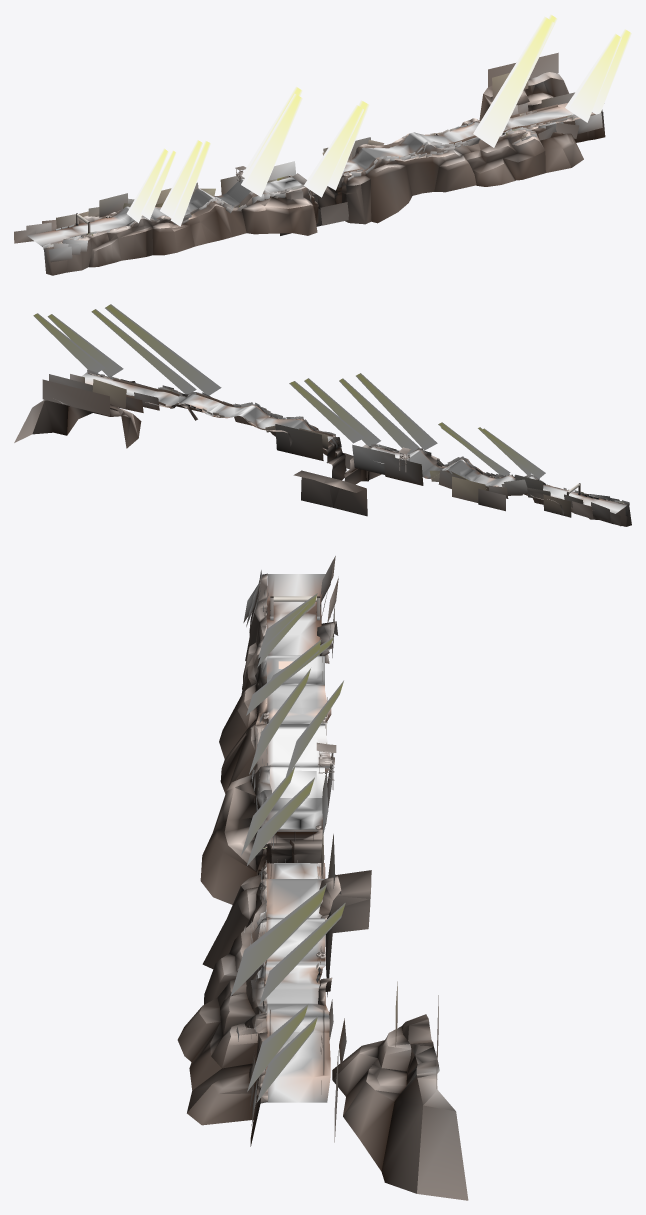
File: Forest_03.fbx
3 views of the same model, one above another, from view 1: azimuth 30°, elevation 25°; view 2: azimuth 150°, elevation 25°; view 3: azimuth 270°, elevation 25° (orthographic). The views are drawn at different scales.
Visible parts, largest first — view 1: Mountain_01, Light_01, Ground_03_V1, Tree_01_A, Tree_01_A1; view 2: Tree_01_A1, Light_01, Mountain_01, Ground_03_V1, Tree_01_A, Leak_A2; view 3: Mountain_01, Ground_03_V1, Light_01, Tree_01_A1, Tree_01_A.
Part boxes in pixels (<box>): Mountain_01: <box>42,72,605,275</box>; Light_01: <box>126,14,631,226</box>; Ground_03_V1: <box>27,103,573,246</box>; Tree_01_A: <box>43,109,602,262</box>; Tree_01_A1: <box>14,52,574,243</box>; Tree_01_A1: <box>42,374,621,526</box>; Light_01: <box>33,304,545,478</box>; Mountain_01: <box>14,372,631,526</box>; Ground_03_V1: <box>81,373,626,513</box>; Tree_01_A: <box>87,369,629,516</box>; Leak_A2: <box>113,378,332,436</box>; Mountain_01: <box>177,573,468,1200</box>; Ground_03_V1: <box>257,574,331,1102</box>; Light_01: <box>230,593,345,1102</box>; Tree_01_A1: <box>316,556,438,1142</box>; Tree_01_A: <box>236,570,297,1125</box>.
Size of the model in its own units: 36613 by 8856 by 7774.
